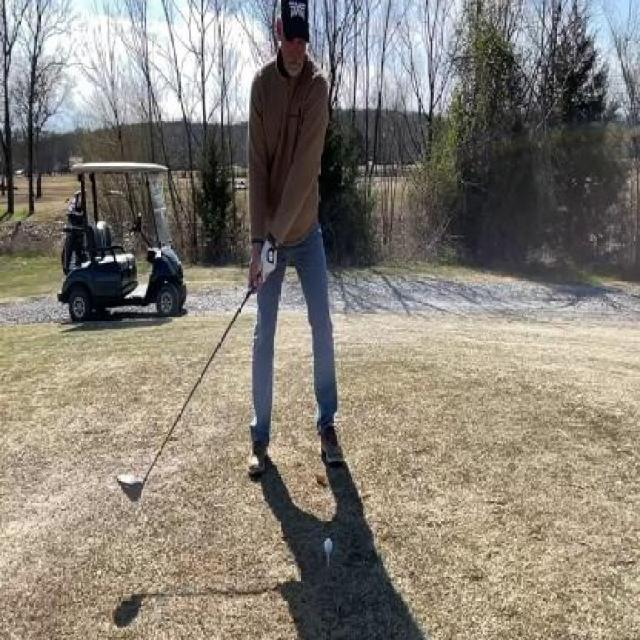club head: (112, 466, 150, 508)
